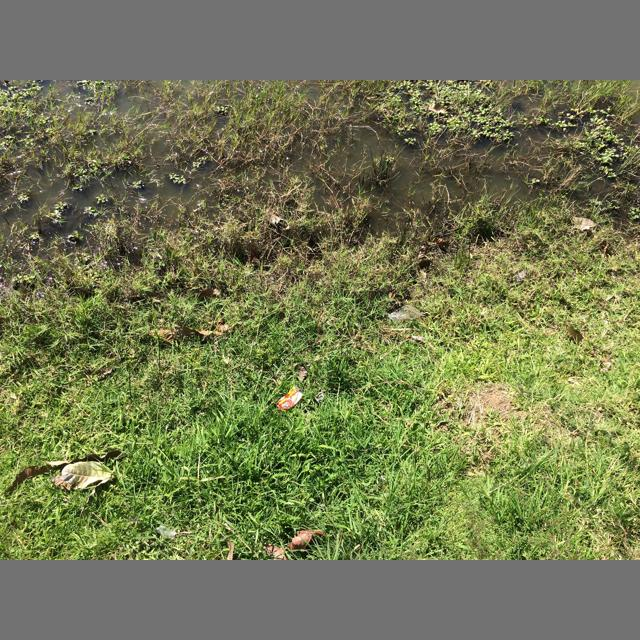litter: (276, 385, 303, 411), (388, 305, 426, 321), (155, 524, 177, 538)
